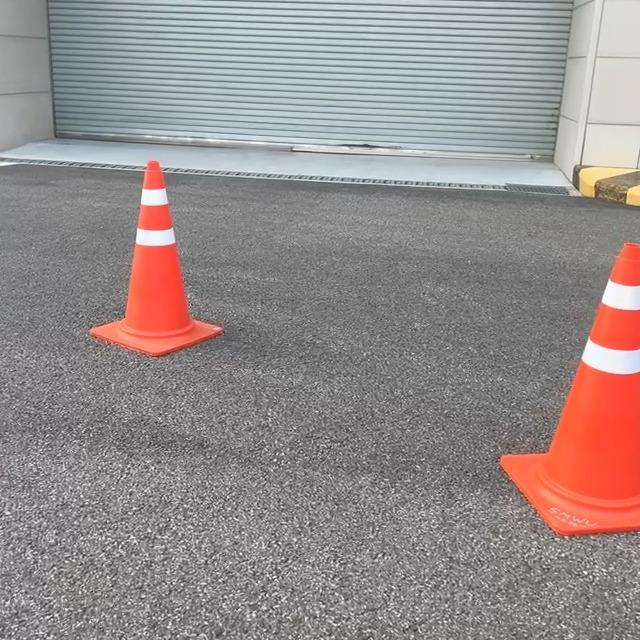fallen_object: (470, 239, 640, 530), (53, 165, 261, 370)
